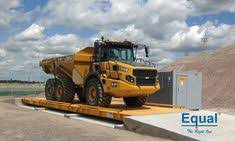Industrial Scale: (20, 96, 193, 122)
